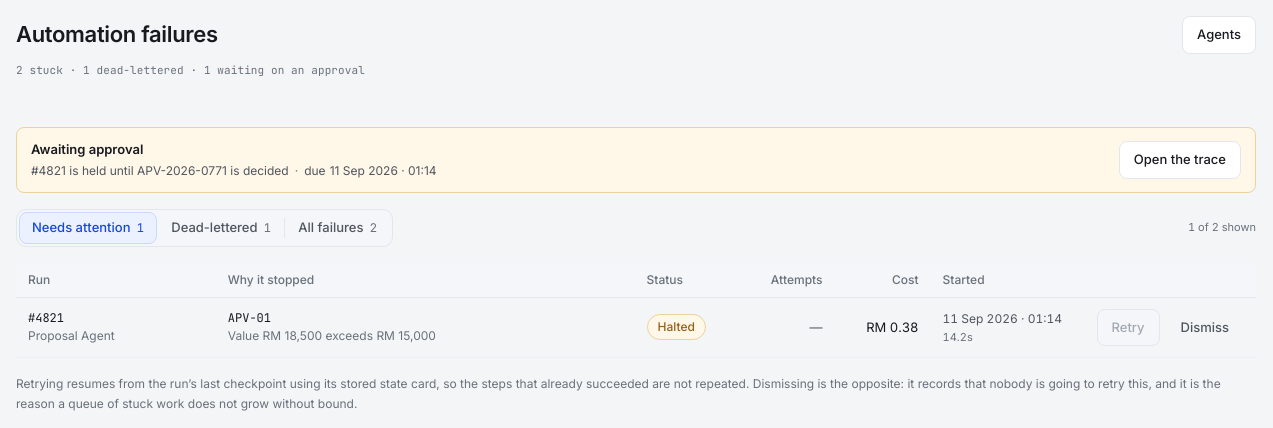
it: /automation/failures · M18-S07 › states the emptiness of the dead-letter bucket in that bucket's words
The width and height of the screenshot is (1273, 428).
Expected: the table named "Failed and halted runs" is shown, top-left (16, 262), bottom-right (1256, 358)
Click the tab "Dead-lettered 1" at (221, 228), box top-left (158, 212), bottom-right (284, 244)
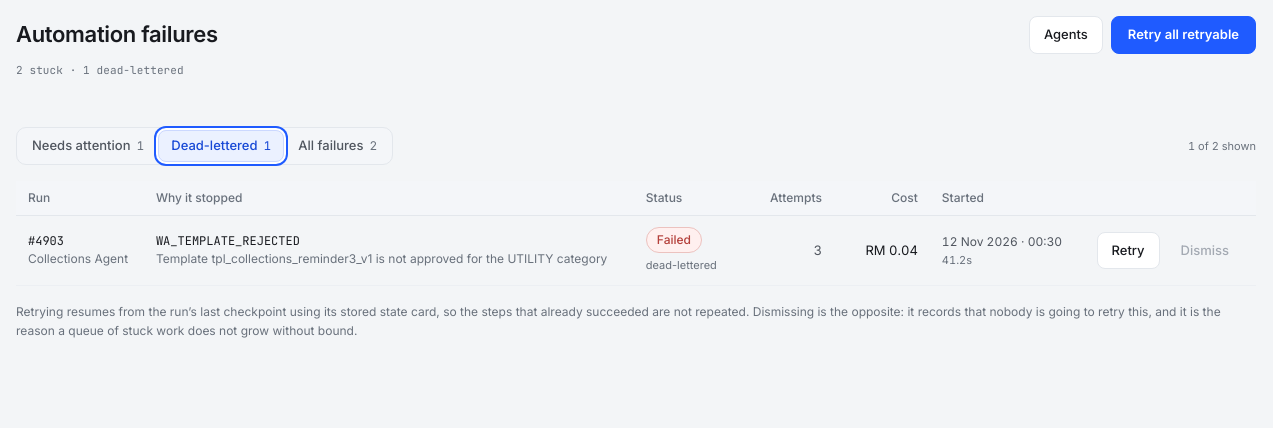
Expected: the text "#4903" is shown, top-left (28, 233), bottom-right (64, 249)
Expected: the text "#4821" is gone
